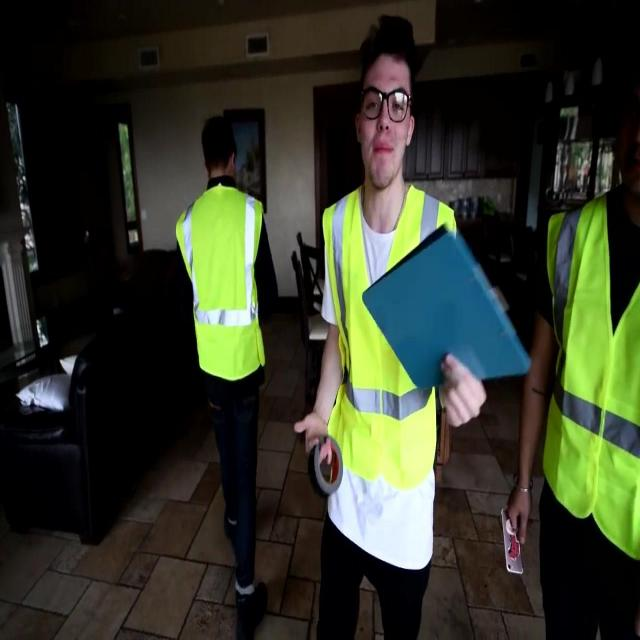Reflective-Jacket: (316, 179, 458, 546), (539, 189, 640, 559), (168, 180, 278, 390)
